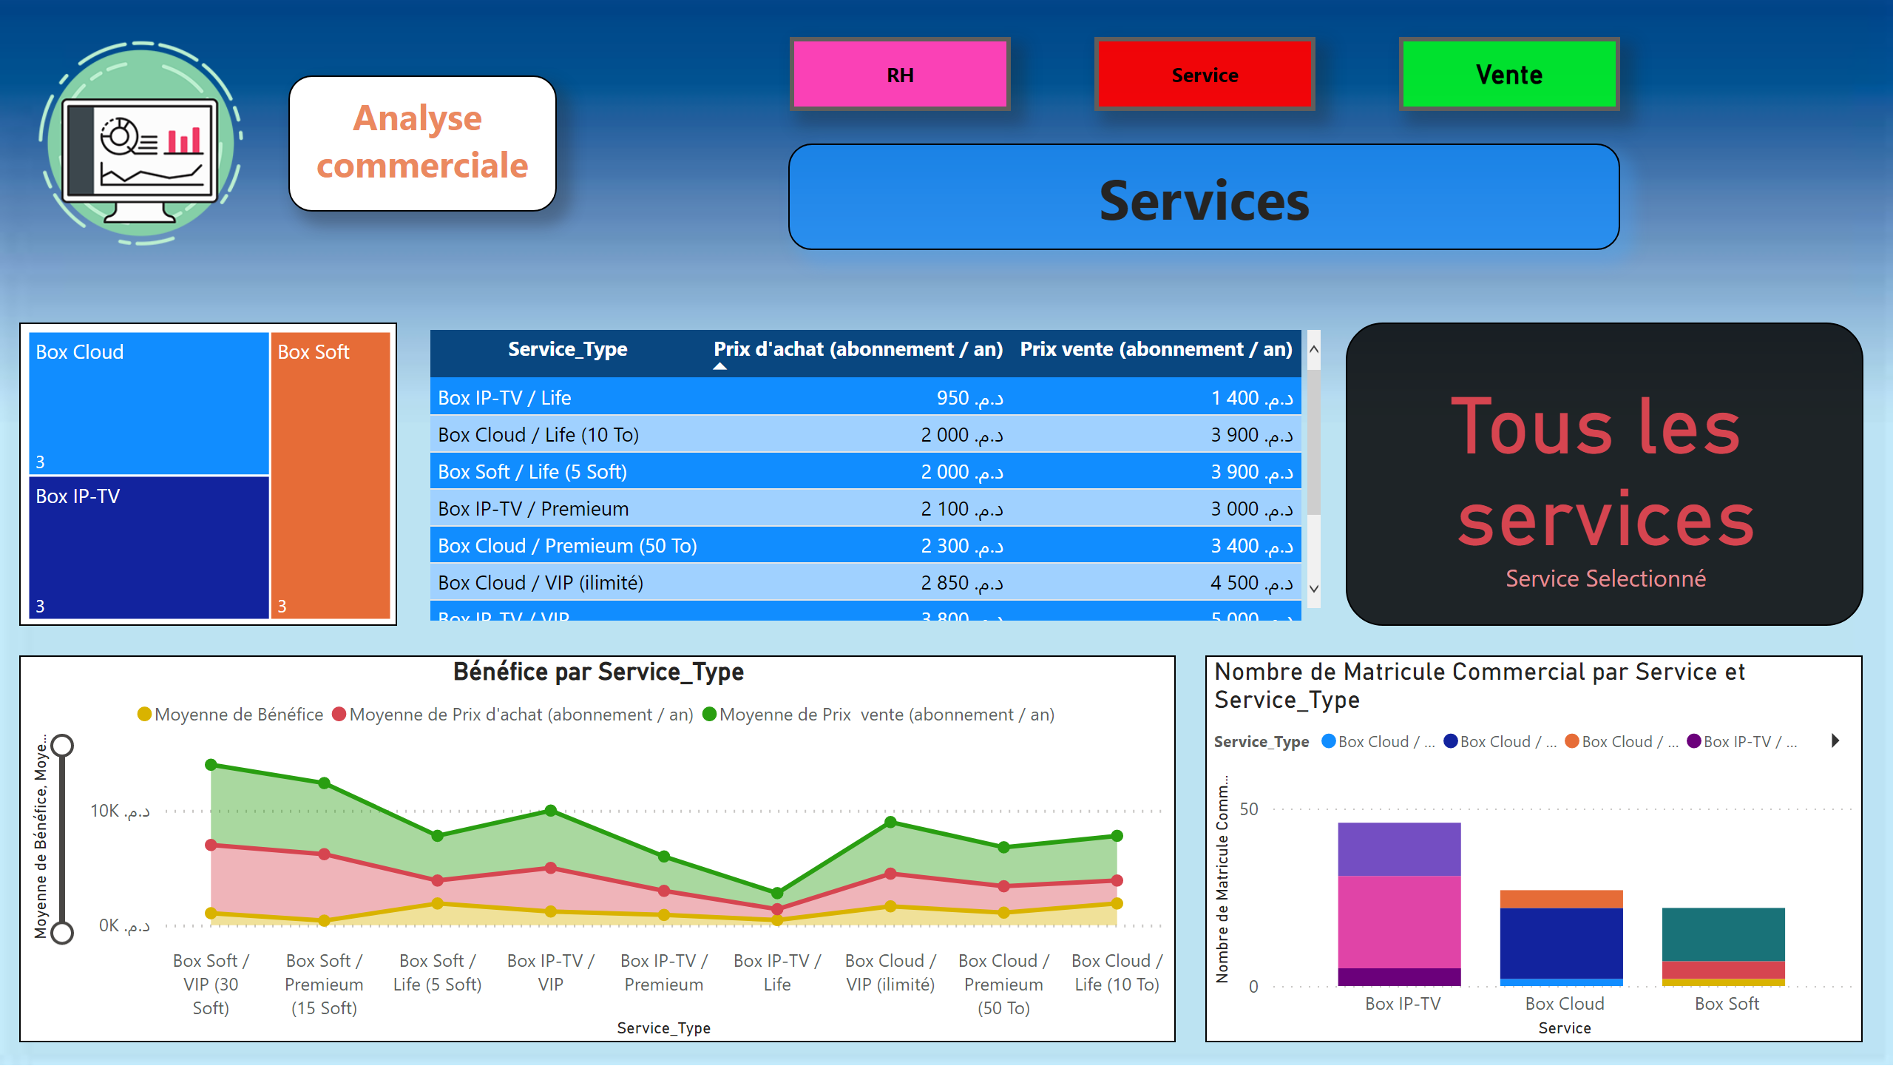

What the dashboard file says about the page in this screenshot:
{"tool":"powerbi","page":{"name":"Service","canvas":[1280,720],"ordinal":1},"visuals":[{"type":"image","box":[13.3,17.3,164,158.7],"z":0},{"type":"textbox","box":[194.7,50.7,181.3,92],"z":1000},{"type":"textbox","box":[533.3,97.3,562.7,72],"z":2000},{"type":"treemap","fields":{"Group":["Services.Service"],"Values":["CountNonNull(Services.Service_Type)"]},"box":[13,218.1,255.7,205.1],"z":3000},{"type":"tableEx","fields":{"Values":["Services.Service_Type","Services.Prix d'achat (abonnement / an)","Services.Prix  vente (abonnement / an)"]},"box":[285.3,217.5,613.2,206.5],"z":4000},{"type":"stackedAreaChart","title":"Bénéfice par Service_Type","fields":{"Category":["Services.Service_Type"],"Y":["Avg(Services.Bénéfice)","Avg(Services.Prix d'achat (abonnement / an))","Avg(Services.Prix  vente (abonnement / an))"]},"box":[12.6,443,781.9,261.7],"z":5000},{"type":"lineStackedColumnComboChart","fields":{"Category":["Services.Service"],"Y":["CountNonNull(Ventes.Matricule Commercial)"],"Series":["Services.Service_Type"]},"box":[815,443,444.5,261.7],"z":6000},{"type":"card","fields":{"Values":["Services.Service Selectionné"]},"box":[909.6,217.5,350,204.9],"z":7000},{"type":"actionButton","title":"RH","box":[533.6,24.9,149.6,49.9],"z":8000},{"type":"actionButton","box":[739.7,24.9,149.6,49.9],"z":9000},{"type":"actionButton","box":[945.9,24.9,149.6,49.9],"z":10000}]}

Visuals, with their boxes in screenshot pixels (x1, y1, x2, y2), scaled from the page's 1280x720 canvas onto the 1894x1080 screenshot:
image: 20 26 262 264
textbox: 288 76 556 214
textbox: 789 146 1622 254
treemap - Services.Service x CountNonNull(Services.Service_Type): 19 327 398 635
tableEx - Services.Service_Type x Services.Prix d'achat (abonnement / an): 422 326 1329 636
"Bénéfice par Service_Type" stackedAreaChart: 19 664 1176 1057
lineStackedColumnComboChart - Services.Service x CountNonNull(Ventes.Matricule Commercial): 1206 664 1864 1057
card - Services.Service Selectionné: 1346 326 1864 634
"RH" actionButton: 790 37 1011 112
actionButton: 1095 37 1316 112
actionButton: 1400 37 1621 112
